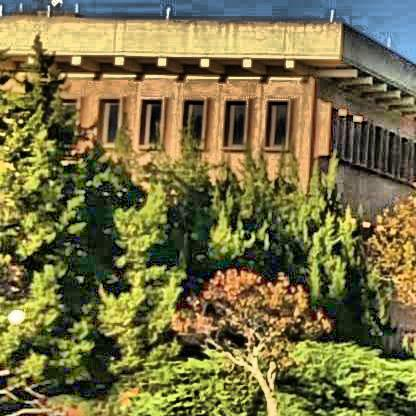golfball: (4, 306, 23, 321)
